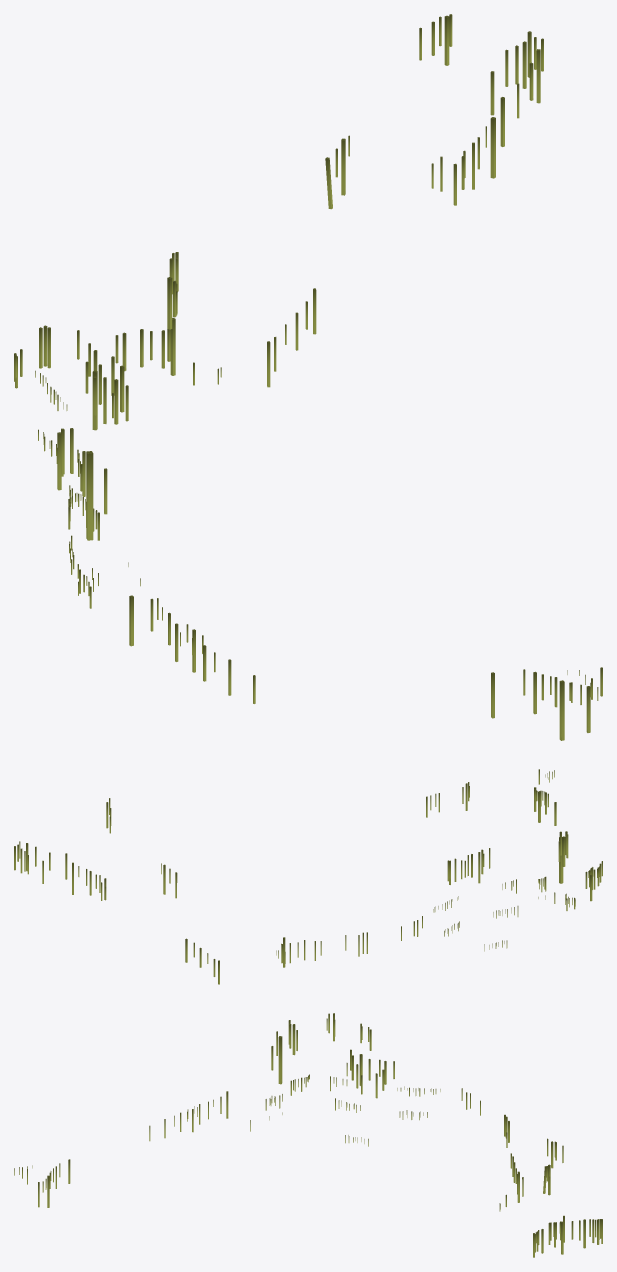
The model's file is vine.glb.
3 views of the same model, one above another, from view 1: azimuth 30°, elevation 25°; view 2: azimuth 150°, elevation 25°; view 3: azimuth 270°, elevation 25° (orthographic). The views are drawn at different scales.
Size of the model in its own units: 10.05 by 3.97 by 12.5.
1 material, 1 textured.
